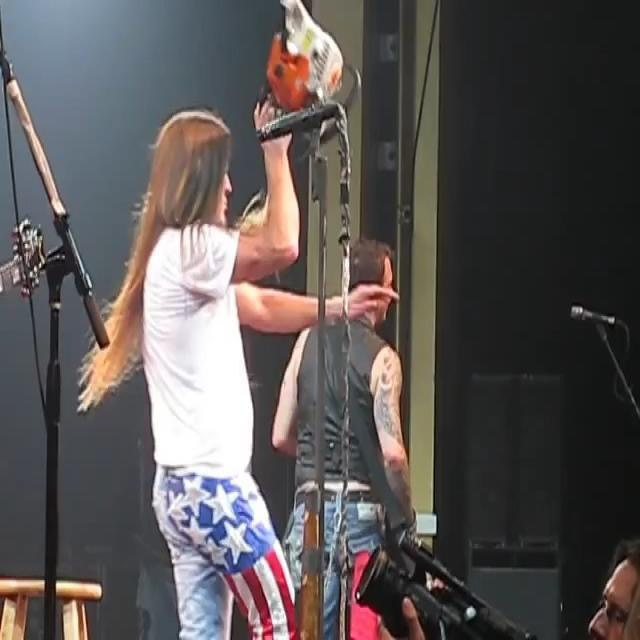Chainsaw: (235, 0, 367, 147)
